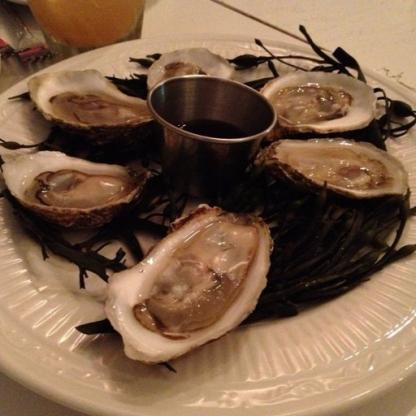oyster: (106, 207, 276, 366), (2, 150, 163, 223), (271, 139, 411, 201), (23, 74, 159, 129), (258, 74, 382, 132)
